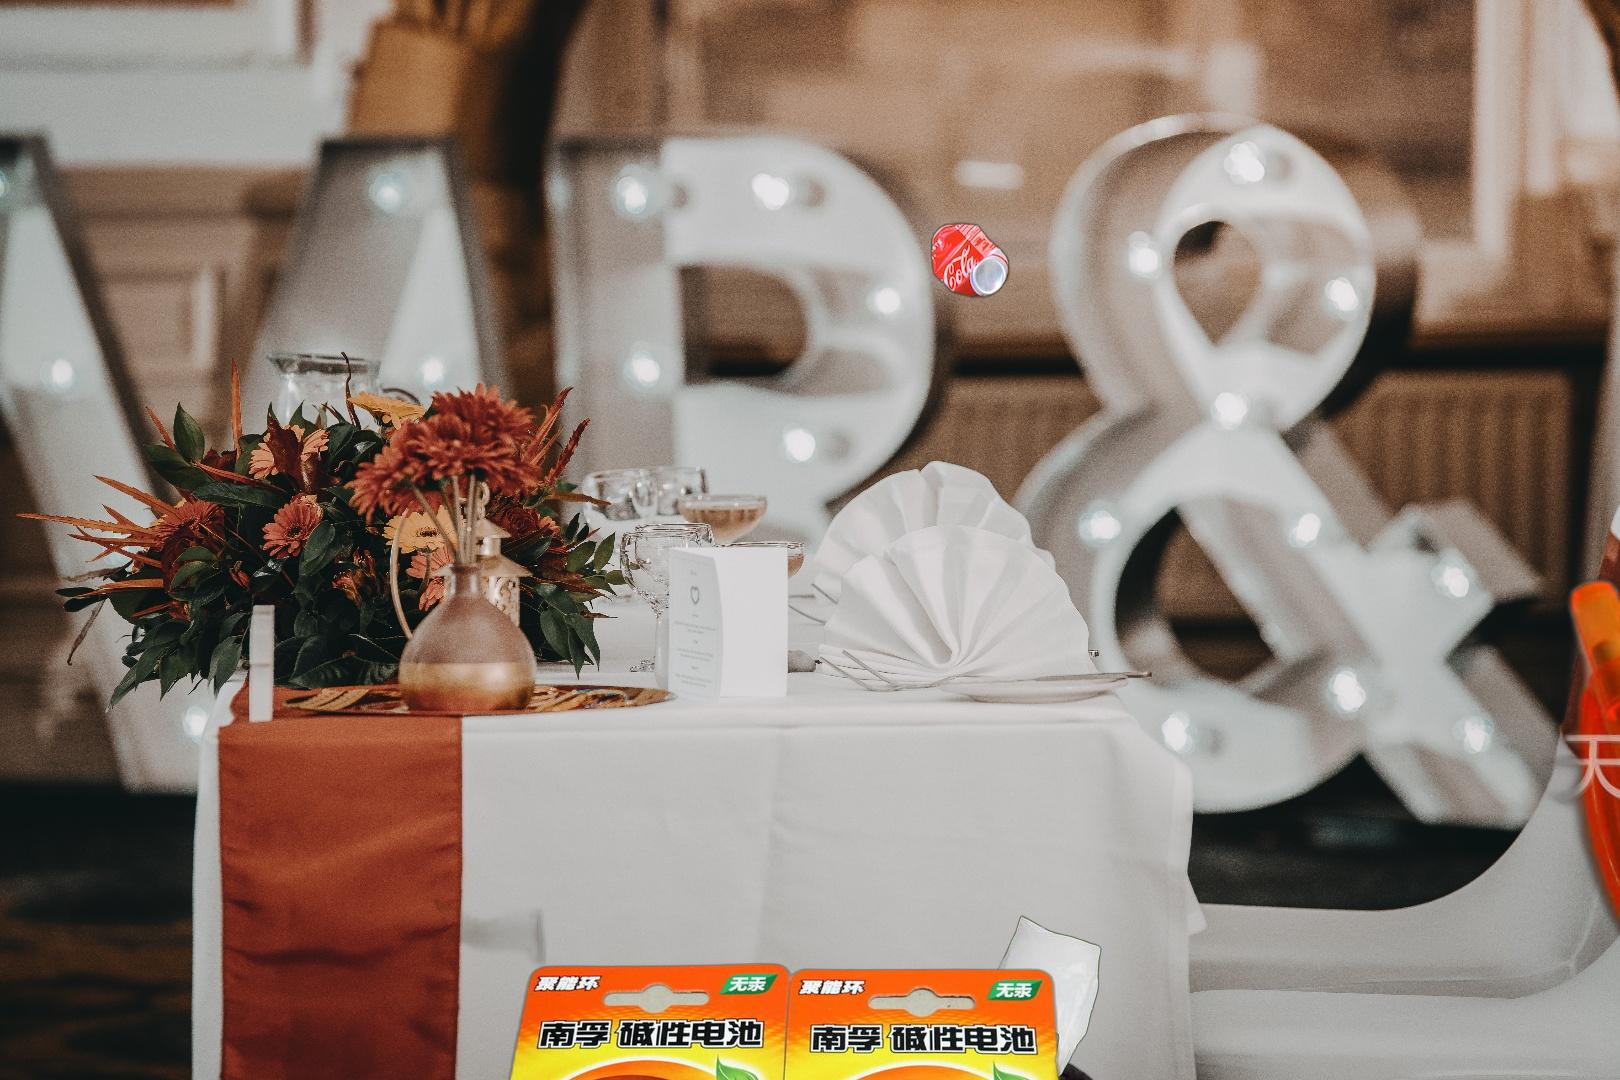battery: (477, 959, 1087, 1080)
clothes: (794, 1005, 1182, 1080)
metal-cans: (926, 217, 1207, 423)
penholder: (1512, 488, 1620, 1080)
plastic-bag: (982, 912, 1113, 1080)
trashbox-cardboard: (310, 891, 820, 1080)
